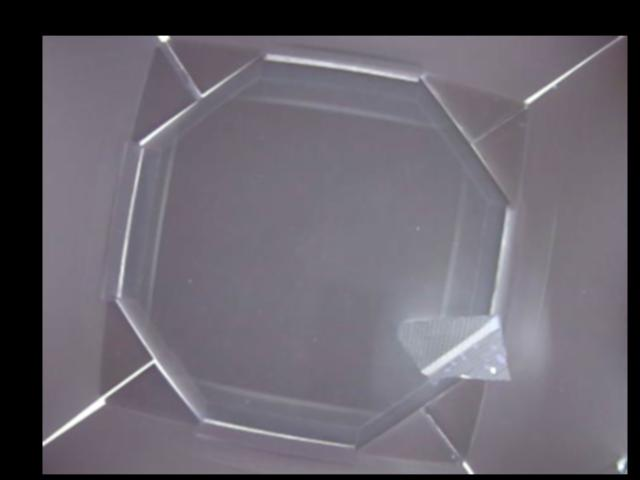China: (396, 307, 512, 383)
